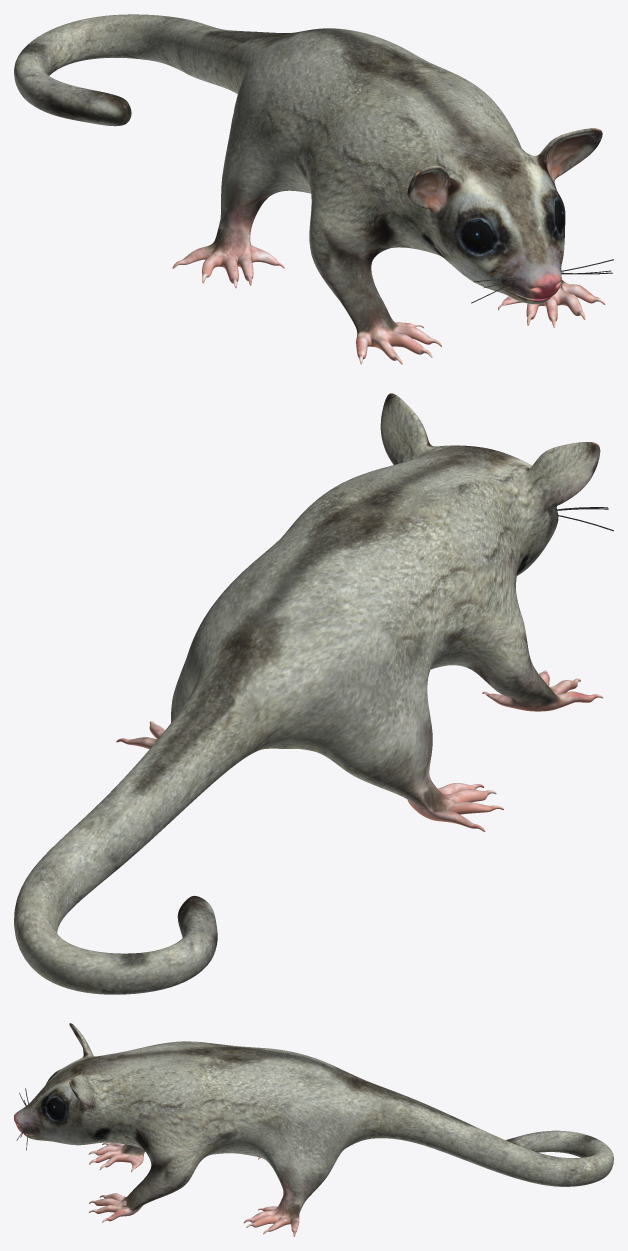
File: glider.fbx
3 renders of one model, top to bottom at view 1: azimuth 30°, elevation 25°; view 2: azimuth 150°, elevation 25°; view 3: azimuth 270°, elevation 25°, orthographic. The views are drawn at different scales.
Parts seen in each view (by area): view 1: 12276_sugar_glider_v1_L3; view 2: 12276_sugar_glider_v1_L3; view 3: 12276_sugar_glider_v1_L3.
Boxes of the visible parts, <box> form: 12276_sugar_glider_v1_L3: <box>14,14,613,364</box>; 12276_sugar_glider_v1_L3: <box>14,393,613,994</box>; 12276_sugar_glider_v1_L3: <box>14,1023,613,1236</box>.
Size of the model in its own units: 9.83 by 5.86 by 23.82.
Materials: 1 (1 with a texture image).
